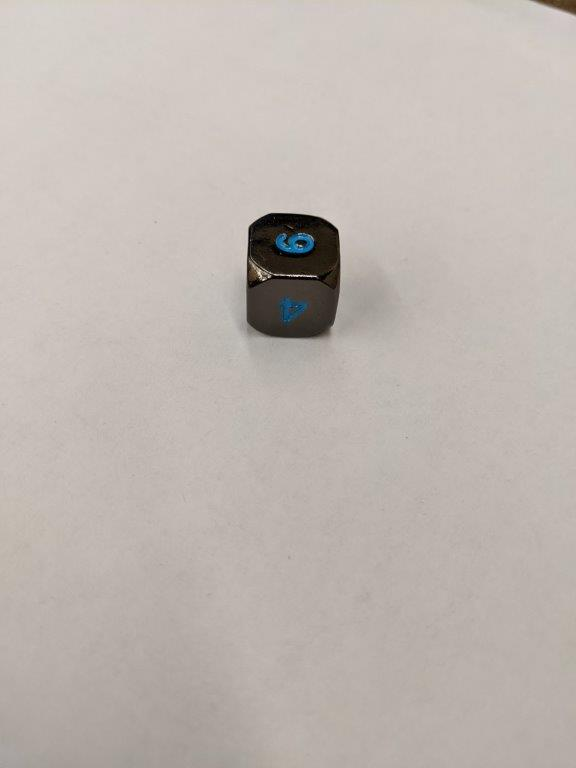d6-6: (242, 211, 342, 345)
